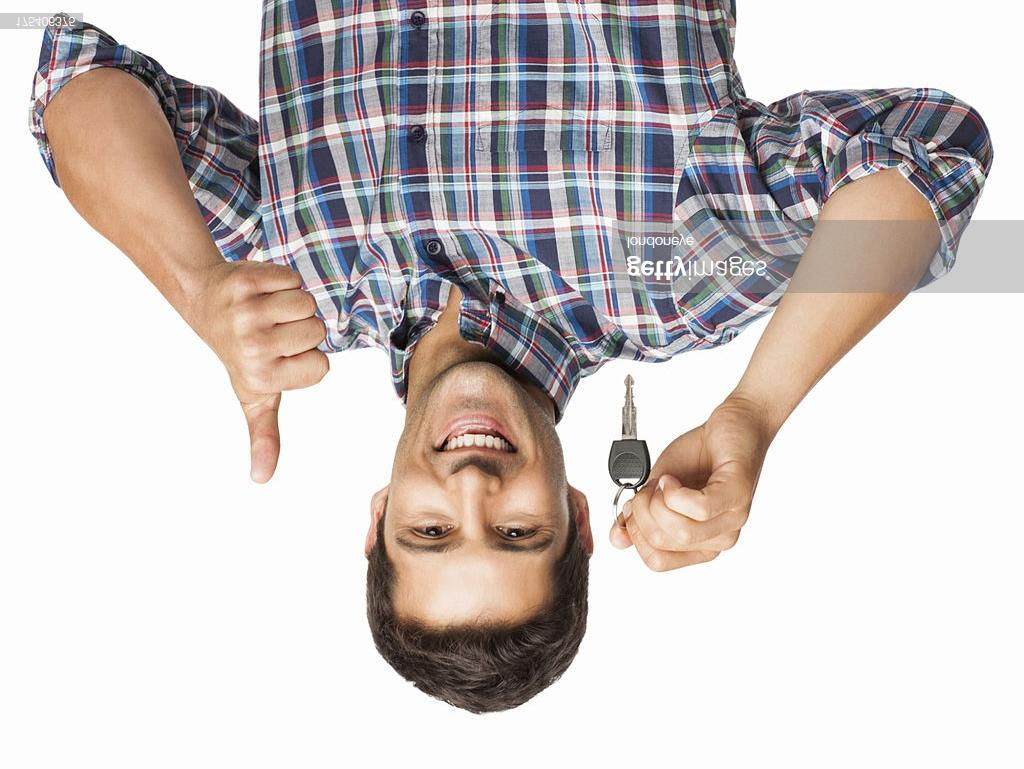thumbsdown: (221, 260, 332, 486)
